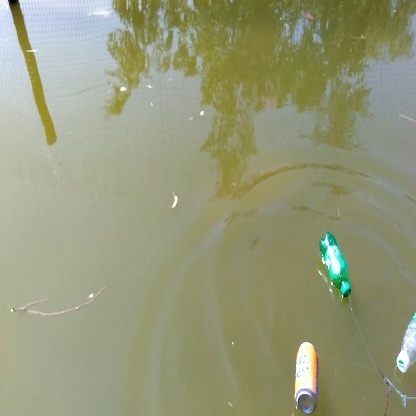bottle: (315, 228, 359, 298), (283, 336, 321, 416)
